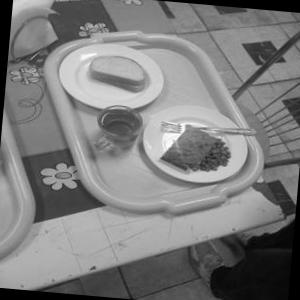bread: (82, 47, 154, 100)
casserole: (152, 115, 238, 182)
tea: (88, 98, 148, 160)
